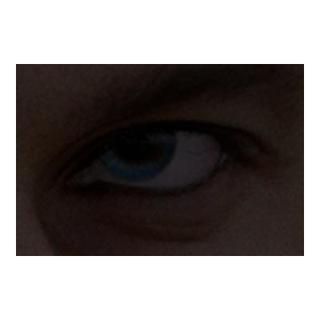pupil: (115, 119, 156, 160)
